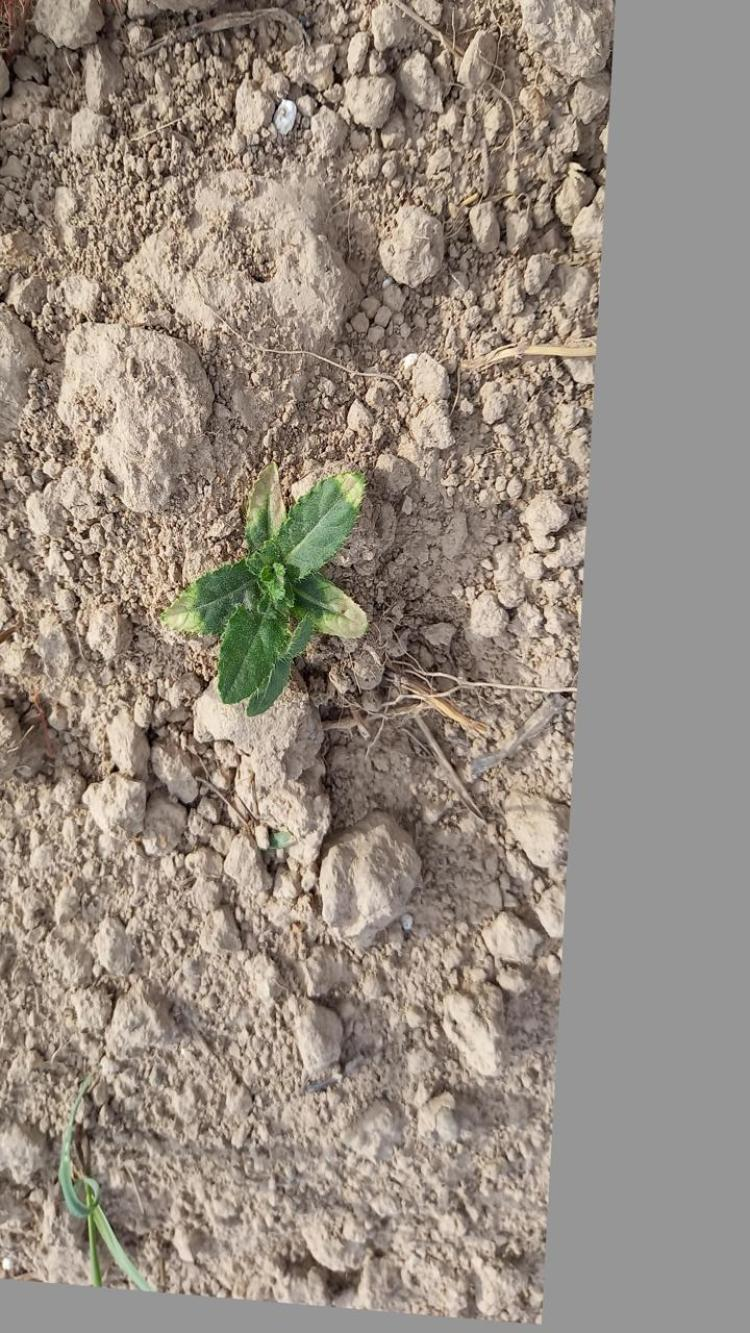bodyak: (168, 463, 390, 715)
